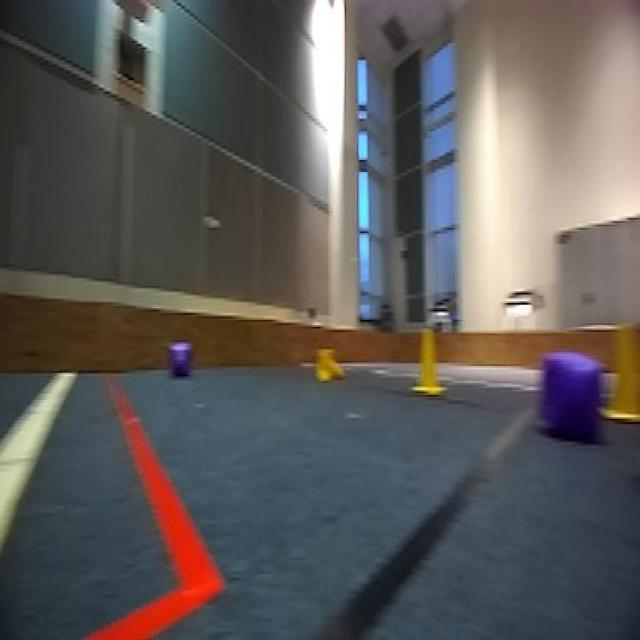frc_cone: (408, 325, 446, 395), (609, 328, 640, 413), (312, 344, 348, 385)
frc_cube: (543, 337, 608, 446), (168, 342, 192, 381)
